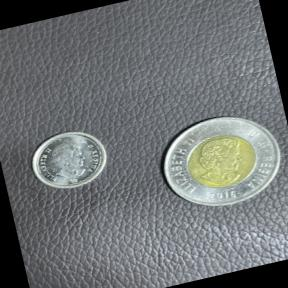Canada-10cent-B: (20, 120, 118, 200)
Canada-2Dollar-B: (143, 94, 288, 226)
